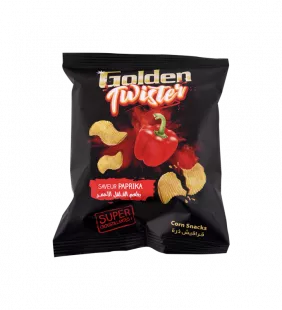GOLDEN TWISTER: (45, 45, 235, 266)
